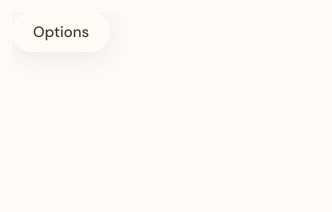
Popover › closes when Escape is pressed
The width and height of the screenshot is (332, 212).
Click the button "Options" at (61, 32), box [12, 12, 110, 52]
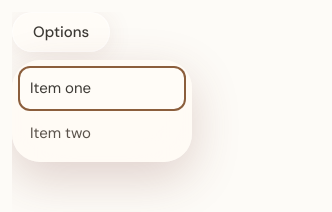
Check: the menu is shown, box [12, 60, 192, 162]
Press Escape
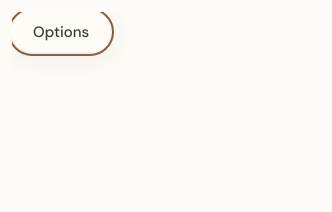
Check: the menu is gone
